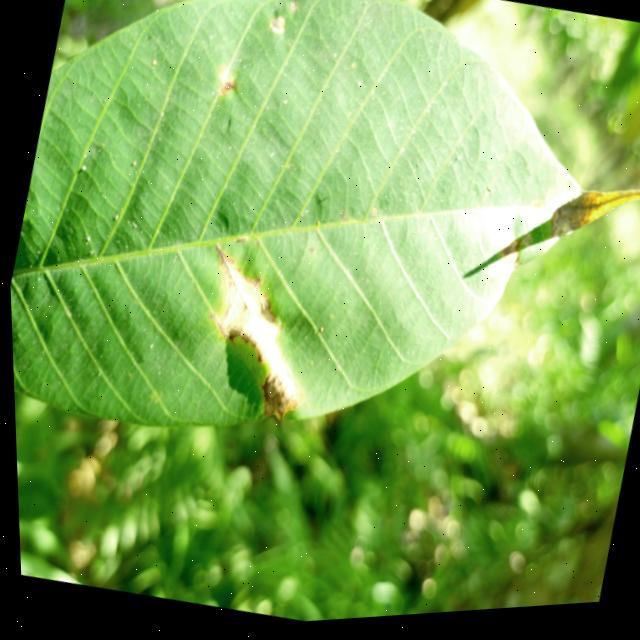Leaf-Blight: (189, 257, 327, 433), (544, 177, 640, 264)
